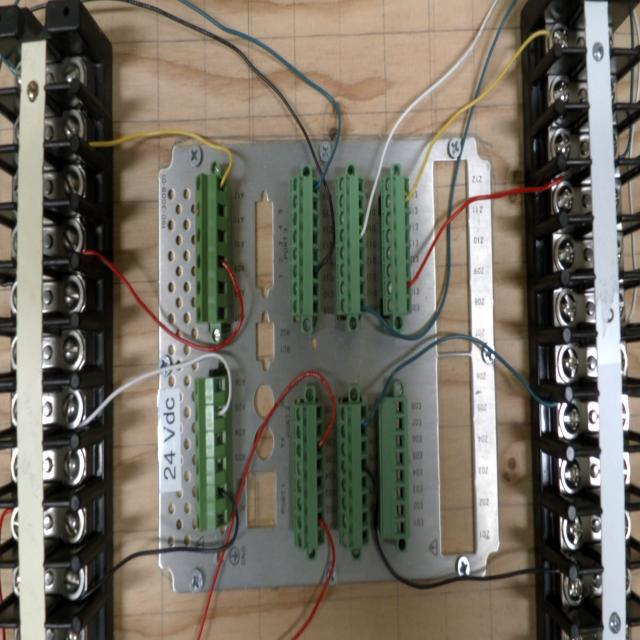Terminal_1: (194, 377, 229, 532), (195, 172, 228, 323)
Terminal_2: (337, 403, 369, 551), (293, 404, 325, 551), (381, 174, 412, 315), (336, 173, 366, 315), (290, 174, 320, 316)
